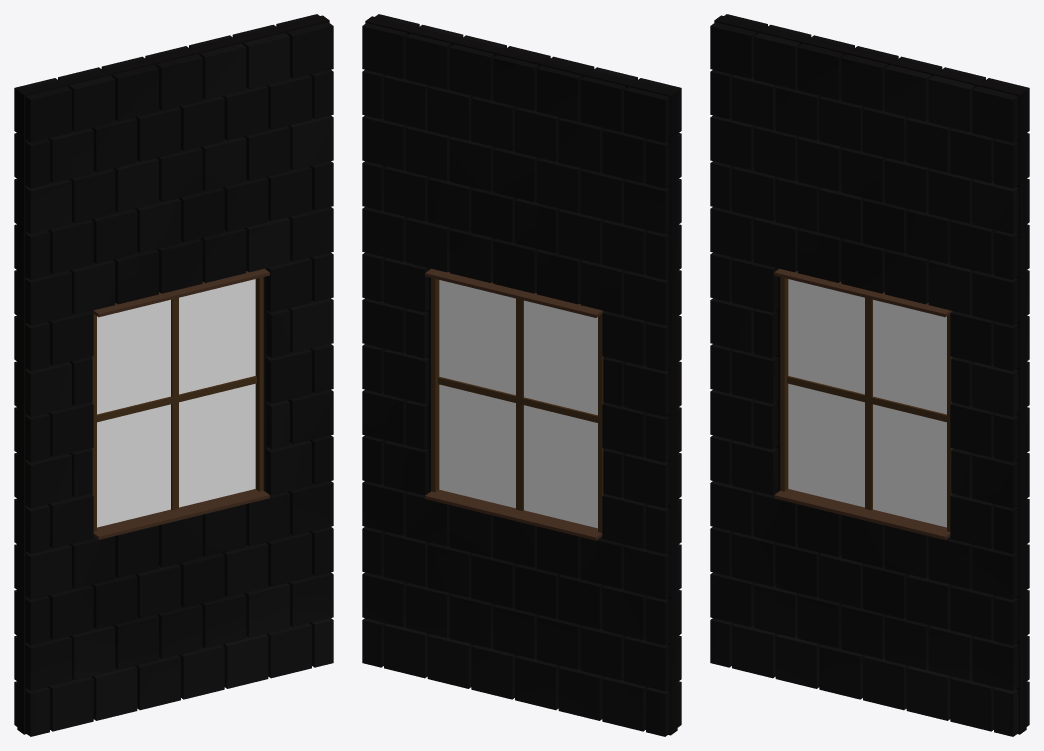
File: Wall_Window.fbx
3 views of the same model, side by side, from view 1: azimuth 30°, elevation 25°; view 2: azimuth 150°, elevation 25°; view 3: azimuth 330°, elevation 25° (orthographic).
Visible parts, largest first — view 1: Wall_Window; view 2: Wall_Window; view 3: Wall_Window.
Boxes of the visible parts, x1,y1,x2,y2 form: Wall_Window: (14, 14, 333, 736); Wall_Window: (362, 14, 681, 736); Wall_Window: (710, 14, 1029, 736).
Bounding box in the file's own units: 100 × 200 × 12.23.
